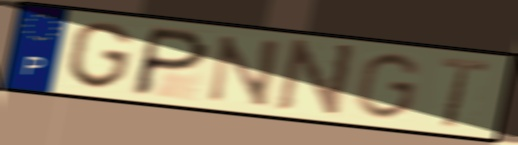G: (350, 51, 425, 122), (64, 20, 135, 92)
N: (271, 37, 360, 121), (202, 33, 284, 110)
P: (126, 25, 213, 99)
T: (438, 54, 492, 130)
